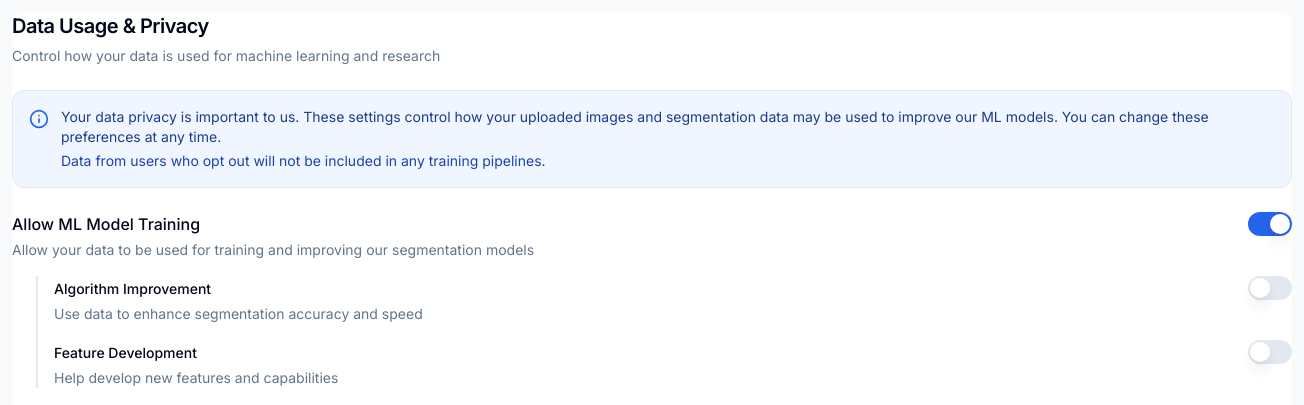
ConsentSection › toggle interactions › turning ML training OFF hides sub-options
The width and height of the screenshot is (1304, 405).
Click the switch named "allow ml model training" in the row of "Allow ML Model Training" at (1270, 224), box [1248,212,1292,236]
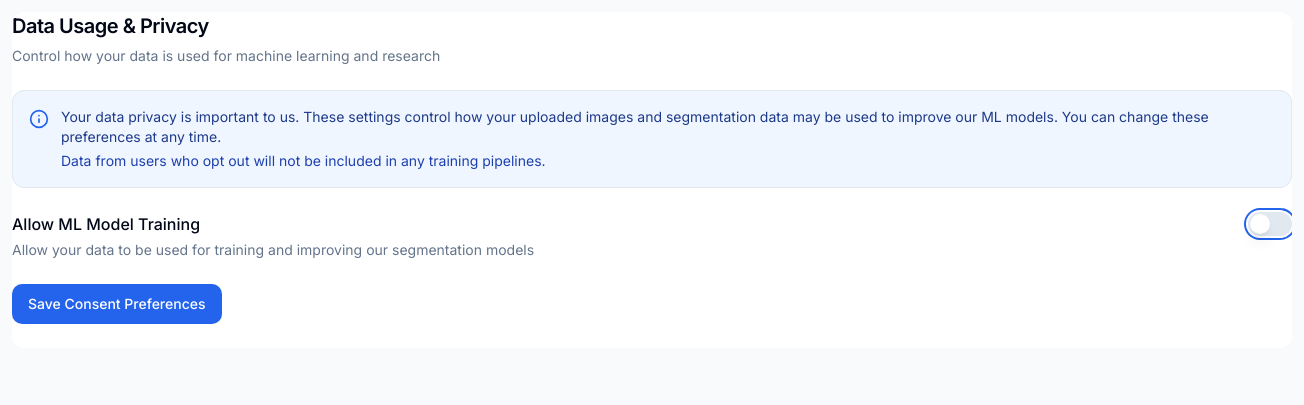
Now the label "Algorithm" is gone
